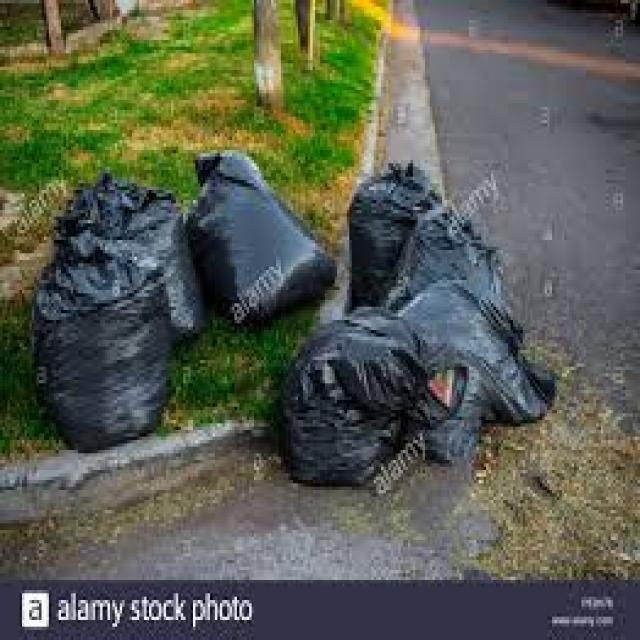garbage: (342, 143, 560, 427), (21, 167, 202, 458), (182, 142, 340, 328), (280, 316, 454, 484)
